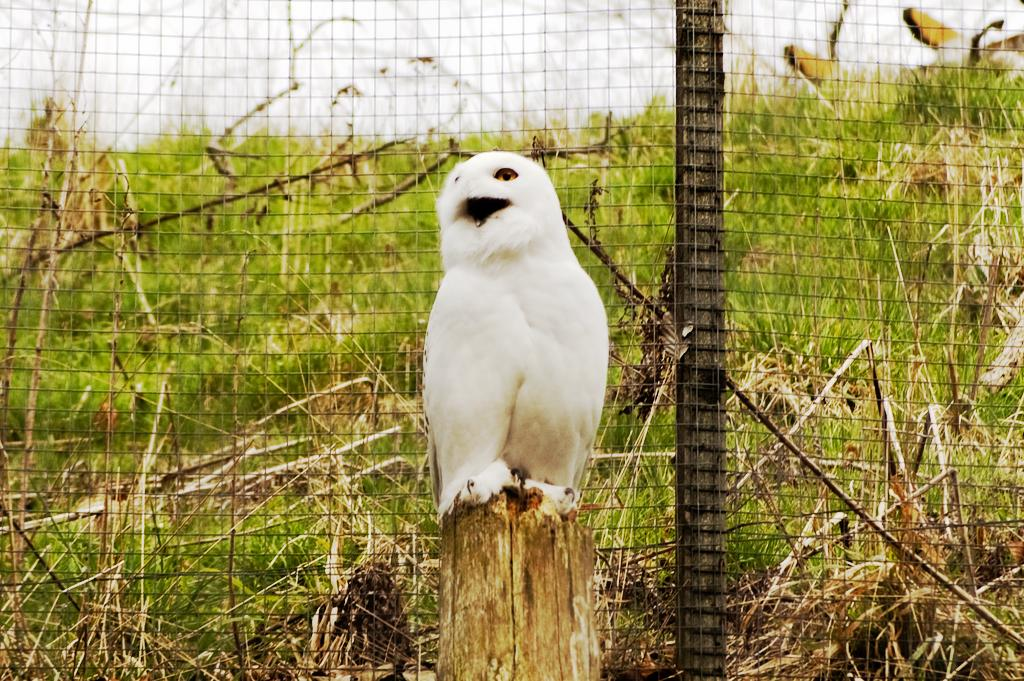Owl: (414, 152, 614, 528)
